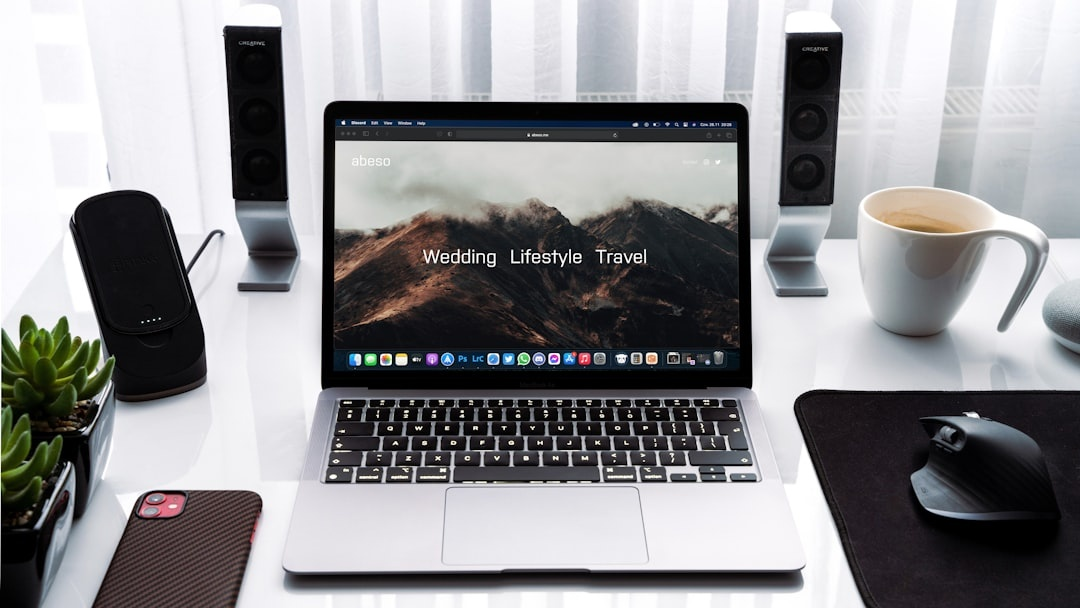laptop: (264, 86, 810, 608)
